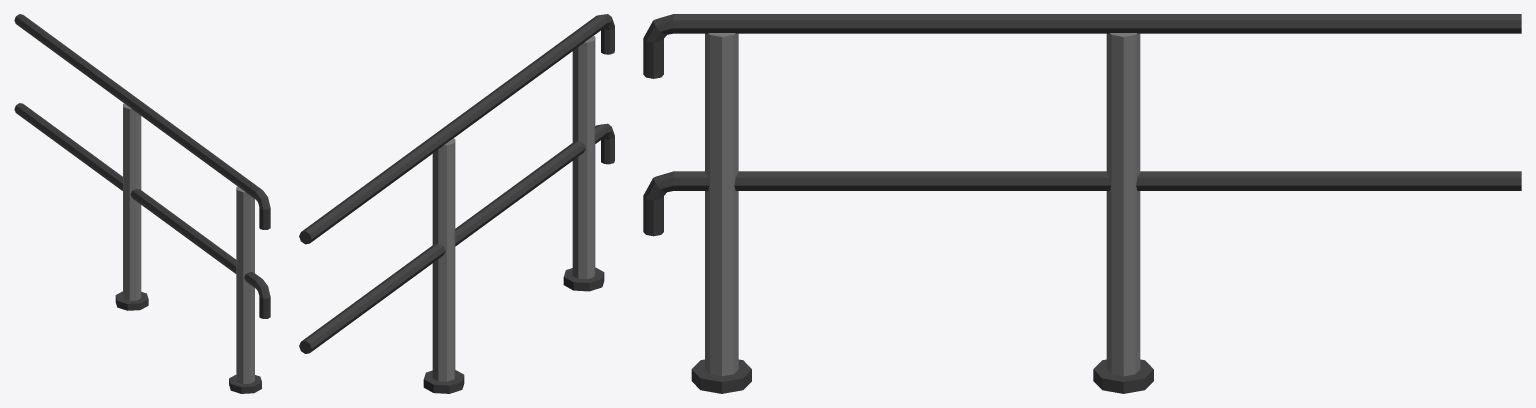
The model's file is fence_03_end.fbx.
3 renders of one model, left to right at view 1: azimuth 30°, elevation 25°; view 2: azimuth 150°, elevation 25°; view 3: azimuth 270°, elevation 25°, orthographic. The views are drawn at different scales.
Parts seen in each view (by area): view 1: fence_03_end; view 2: fence_03_end; view 3: fence_03_end.
Part boxes in pixels (x1,y1,x2,y2): fence_03_end: (14,14,270,393); fence_03_end: (299,14,614,393); fence_03_end: (643,14,1521,393).
Size of the model in its own units: 19.71 by 132 by 286.
Materials: 1 (1 with a texture image).
